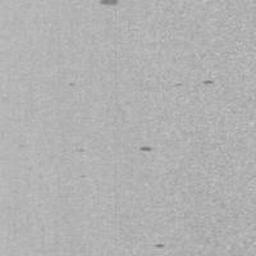Inclusion: (101, 0, 118, 6), (138, 146, 154, 152), (202, 79, 215, 86), (154, 243, 166, 248)
